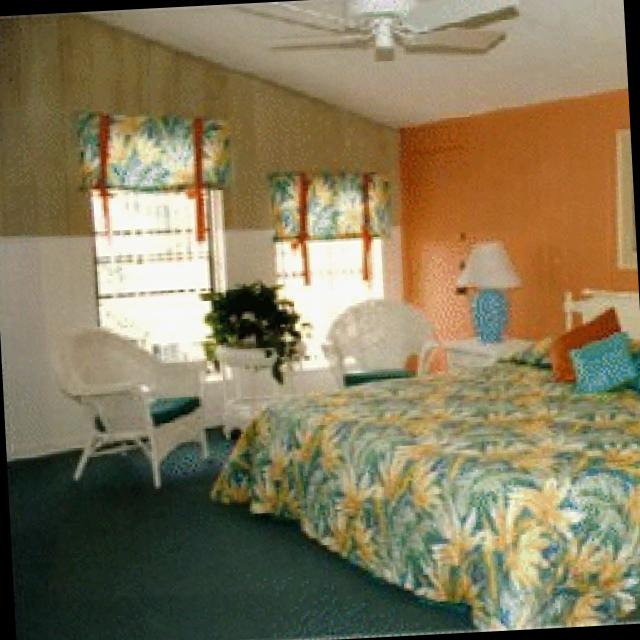2001: (88, 187, 224, 358), (274, 235, 379, 362)
bed -occluded-: (209, 300, 640, 623)
ceiling beam: (94, 0, 621, 126)
chair -occluded-: (46, 323, 207, 487), (314, 296, 439, 387)
curtain crop: (76, 105, 224, 192), (270, 172, 388, 237)
fan lamp: (221, 0, 501, 47)
lamp crop: (451, 239, 521, 341)
night stand: (442, 334, 529, 361)
pillow occluded: (564, 327, 636, 389), (549, 307, 613, 376)
plant -x: (196, 281, 304, 365)
small table part: (219, 348, 287, 433)
